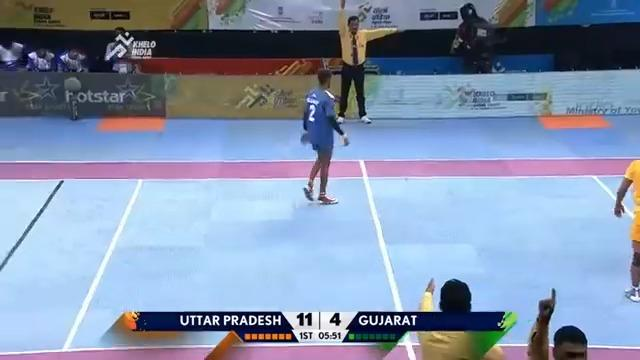Player: (334, 4, 397, 124), (415, 277, 507, 359), (526, 287, 588, 359), (449, 2, 504, 73), (613, 158, 639, 302), (104, 26, 135, 73)
Raider: (299, 67, 349, 204)
